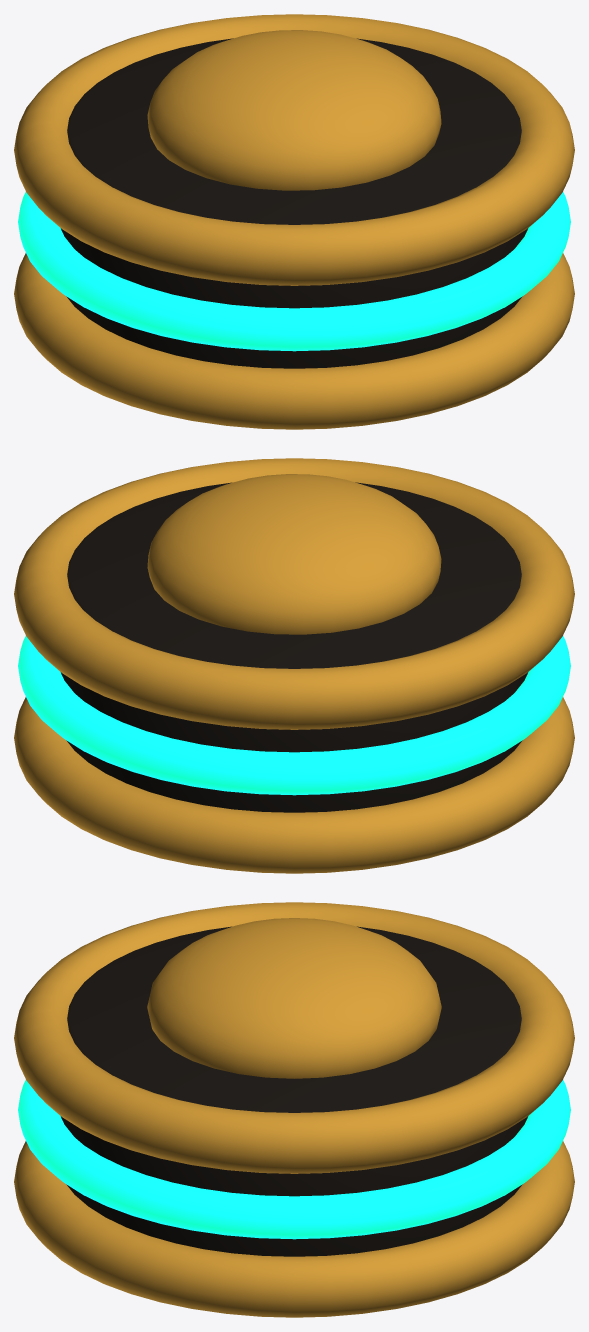
File: bumper-capstan.glb
3 renders of one model, top to bottom at view 1: azimuth 30°, elevation 25°; view 2: azimuth 150°, elevation 25°; view 3: azimuth 270°, elevation 25°, orthographic.
Visible parts, largest first — view 1: CapstanTopFlange, CapstanCorePost, CapstanTopFinial, CapstanBotFlange, CapstanBumperRing; view 2: CapstanTopFlange, CapstanCorePost, CapstanTopFinial, CapstanBotFlange, CapstanBumperRing; view 3: CapstanTopFlange, CapstanCorePost, CapstanTopFinial, CapstanBotFlange, CapstanBumperRing.
Part boxes in pixels (x1,y1,x2,y2): CapstanTopFlange: (14, 14, 574, 285); CapstanCorePost: (61, 38, 527, 368); CapstanTopFinial: (147, 30, 441, 190); CapstanBotFlange: (14, 253, 574, 429); CapstanBumperRing: (18, 192, 570, 351); CapstanTopFlange: (14, 458, 574, 729); CapstanCorePost: (61, 482, 527, 812); CapstanTopFinial: (147, 474, 441, 634); CapstanBotFlange: (14, 697, 574, 873); CapstanBumperRing: (18, 636, 570, 795); CapstanTopFlange: (14, 902, 574, 1173); CapstanCorePost: (61, 926, 527, 1256); CapstanTopFinial: (147, 918, 441, 1078); CapstanBotFlange: (14, 1141, 574, 1317); CapstanBumperRing: (18, 1080, 570, 1239).
Size of the model in its own units: 0.99 by 0.5184 by 0.99.
